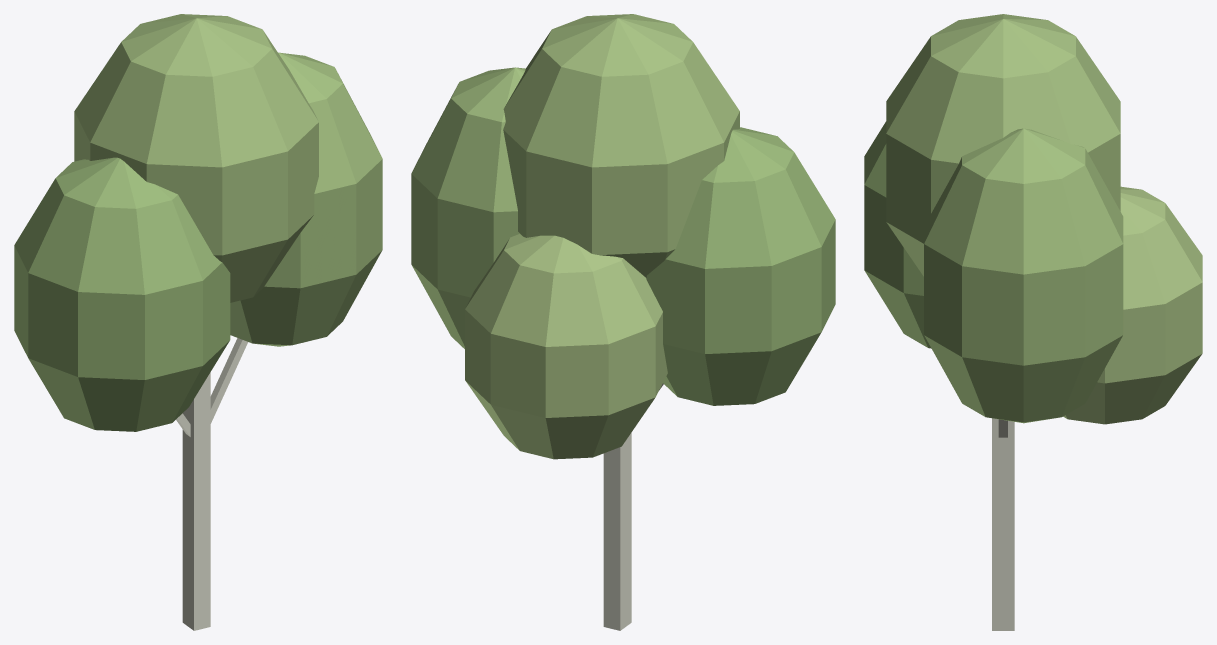
3 renders of one model, left to right at view 1: azimuth 30°, elevation 25°; view 2: azimuth 150°, elevation 25°; view 3: azimuth 270°, elevation 25°, orthographic.
Size of the model in its own units: 8.4 by 13.2 by 6.66.
